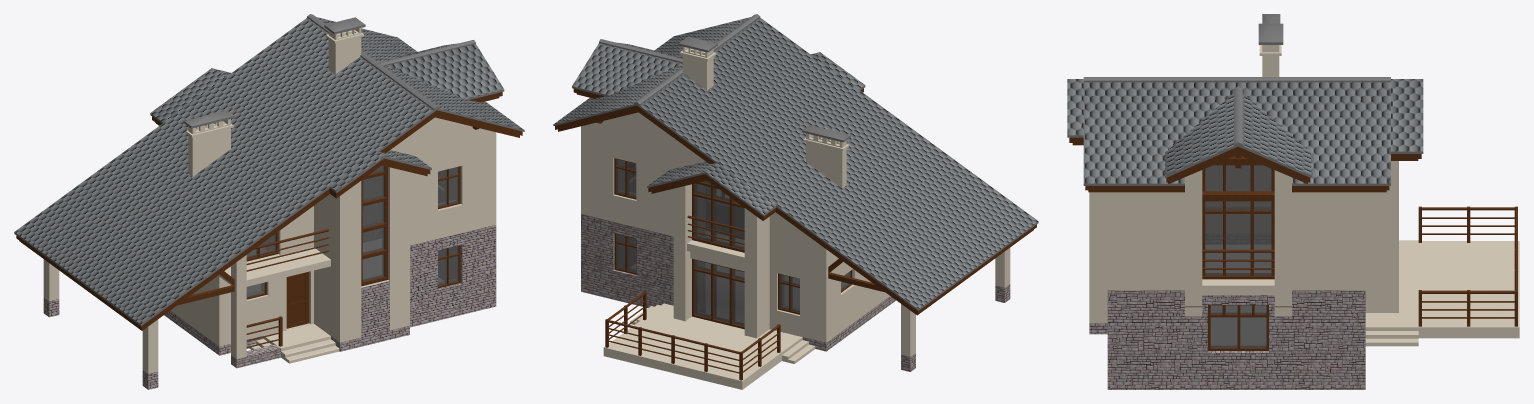
Rendered from New_House11_2.FBX.
3 views of the same model, side by side, from view 1: azimuth 30°, elevation 25°; view 2: azimuth 150°, elevation 25°; view 3: azimuth 270°, elevation 25° (orthographic). The views are drawn at different scales.
Visible parts, largest first — view 1: Roof_1_5, House_5, Glass_5, Roof_4_5, flue_1_5, Windows_5, porch_1_5, Roof_2_5, Roof_3_5, Roof_6_5, porch_2_5, Door_5 (+2 smaller); view 2: Roof_1_5, House_5, porch_2_5 (×2), Glass_5, Roof_4_5, Windows_5, flue_1_5, Roof_3_5, Roof_6_5, flue_2_5, porch_3_5, Roof_2_5 (+1 smaller); view 3: House_5, Roof_1_5, porch_2_5 (×2), Glass_5, Roof_4_5, Windows_5, Roof_3_5, Roof_6_5, decor_5, Roof_2_5, porch_3_5, flue_2_5 (+1 smaller).
Part boxes in pixels (x1,y1,x2,y2): Roof_1_5: (14,17,524,330); House_5: (43,117,496,389); Glass_5: (246,165,458,297); Roof_4_5: (387,43,504,102); flue_1_5: (185,28,363,176); Windows_5: (246,166,460,328); porch_1_5: (231,323,339,368); Roof_2_5: (329,150,431,198); Roof_3_5: (150,68,230,125); Roof_6_5: (307,14,475,109); porch_2_5: (246,229,328,347); Door_5: (287,272,307,327); Roof_1_5: (553,17,1038,315); House_5: (581,112,1010,371); porch_2_5 (×2): (603,215,802,389); Glass_5: (616,159,850,326); Roof_4_5: (572,42,682,98); Windows_5: (614,158,852,329); flue_1_5: (680,46,849,187); Roof_3_5: (647,161,776,220); Roof_6_5: (599,14,760,105); flue_2_5: (678,36,850,142); porch_3_5: (630,304,815,363); Roof_2_5: (811,52,865,92); House_5: (1089,161,1398,389); Roof_1_5: (1083,82,1390,192); porch_2_5 (×2): (1202,206,1519,338); Glass_5: (1205,165,1271,347); Roof_4_5: (1165,93,1311,183); Windows_5: (1202,165,1274,350); Roof_3_5: (1391,79,1423,160); Roof_6_5: (1083,77,1390,145); decor_5: (1202,154,1274,201); Roof_2_5: (1067,79,1083,145); porch_3_5: (1365,240,1418,346); flue_2_5: (1258,14,1283,44).
Bounding box in the file's own units: 1596 × 1296 × 988.
16 materials, 4 textured.
